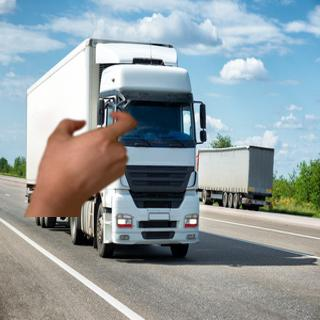HATE: (27, 107, 139, 208)
